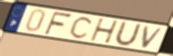0: (23, 9, 46, 34)
C: (68, 16, 95, 40)
F: (43, 10, 74, 36)
H: (89, 17, 120, 45)
U: (112, 20, 143, 48)
V: (140, 25, 166, 50)
